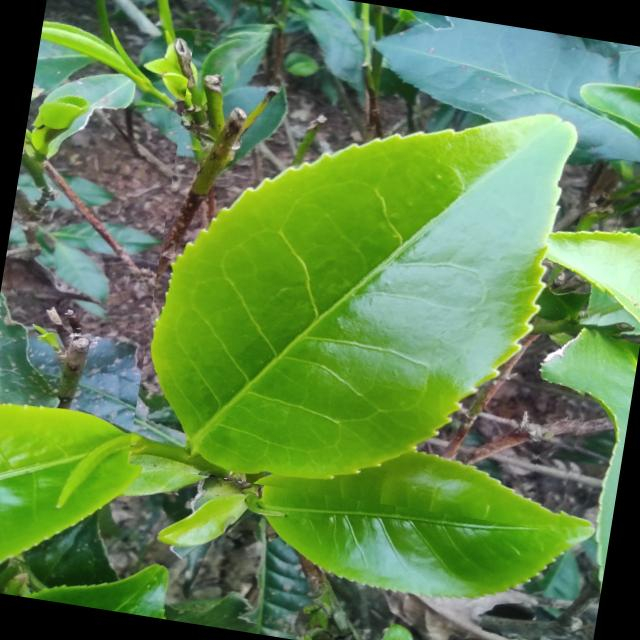Category C(4-7 days): (127, 26, 640, 534)
